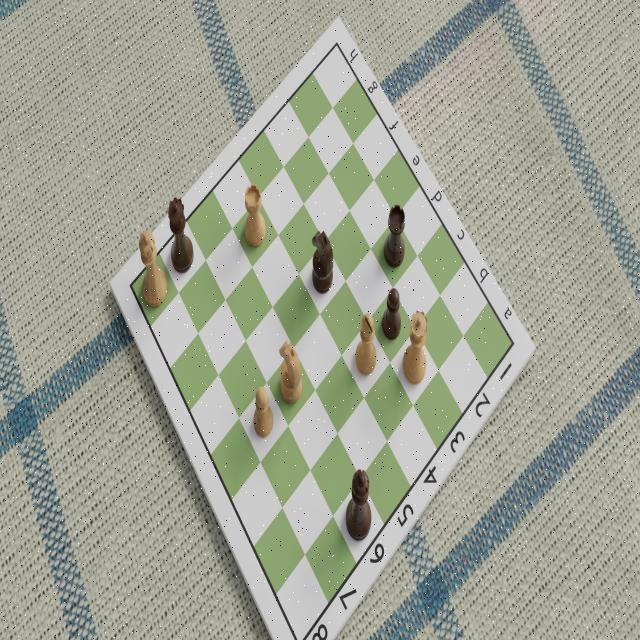black-king: (345, 465, 375, 545)
black-knight: (309, 226, 336, 298)
black-pawn: (383, 287, 405, 344)
black-queen: (166, 194, 193, 277)
black-rook: (383, 203, 409, 272)
white-bishop: (353, 314, 378, 378)
white-king: (139, 226, 170, 310)
white-knight: (277, 341, 303, 407)
white-pawn: (249, 385, 274, 442)
white-queen: (402, 310, 430, 388)
white-rook: (242, 182, 268, 251)
